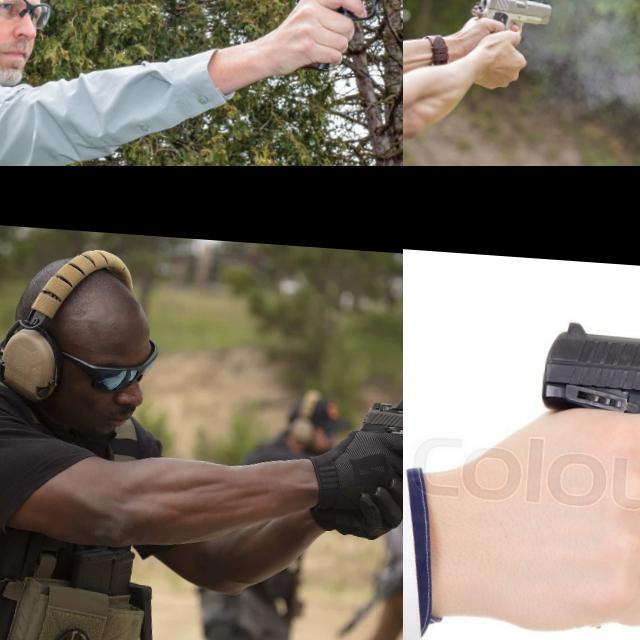handgun: (527, 316, 640, 521), (354, 388, 403, 474), (303, 0, 403, 41), (467, 0, 556, 39)
